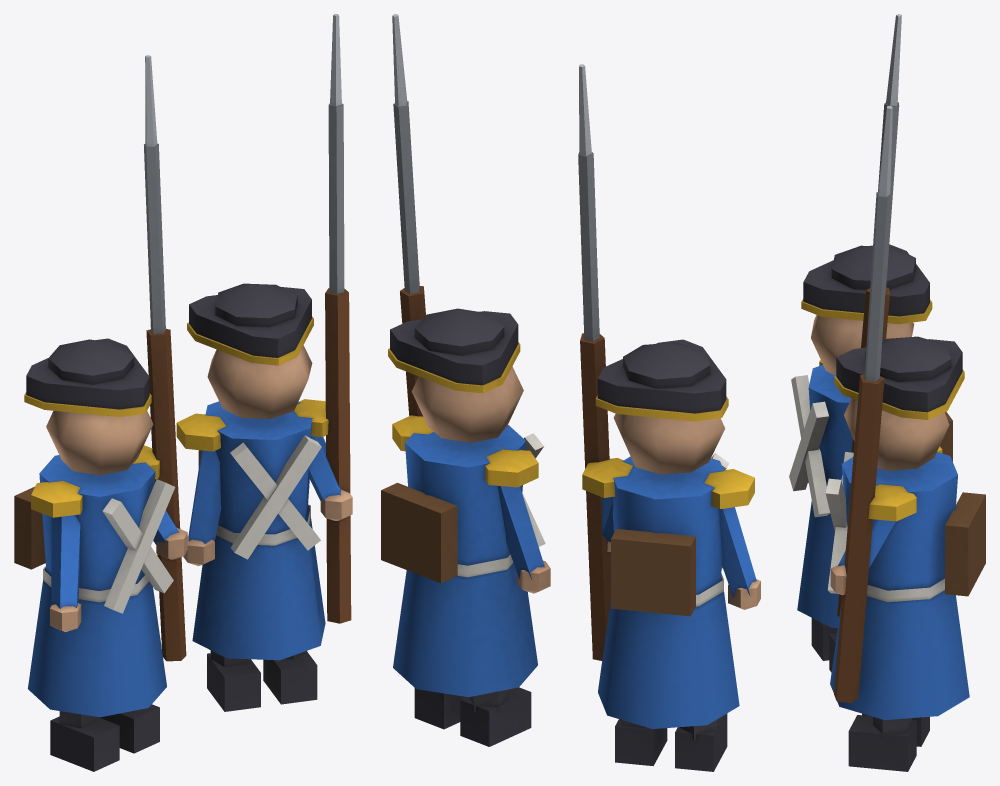
Rendered from sentry_dl4_blue.glb.
The picture shows the model from 3 angles, left to right: view 1: azimuth 30°, elevation 25°; view 2: azimuth 150°, elevation 25°; view 3: azimuth 270°, elevation 25°; orthographic projection. The views are drawn at different scales.
Visible parts, largest first — view 1: sentry_dl4_blue; view 2: sentry_dl4_blue; view 3: sentry_dl4_blue.
Part boxes in pixels (left/top/right/bottom): sentry_dl4_blue: left=14, top=14, right=352, bottom=771; sentry_dl4_blue: left=381, top=14, right=760, bottom=771; sentry_dl4_blue: left=789, top=14, right=985, bottom=771.
Bounding box in the file's own units: 0.3372 × 0.6557 × 0.1724.
Materials: 1 (1 with a texture image).
